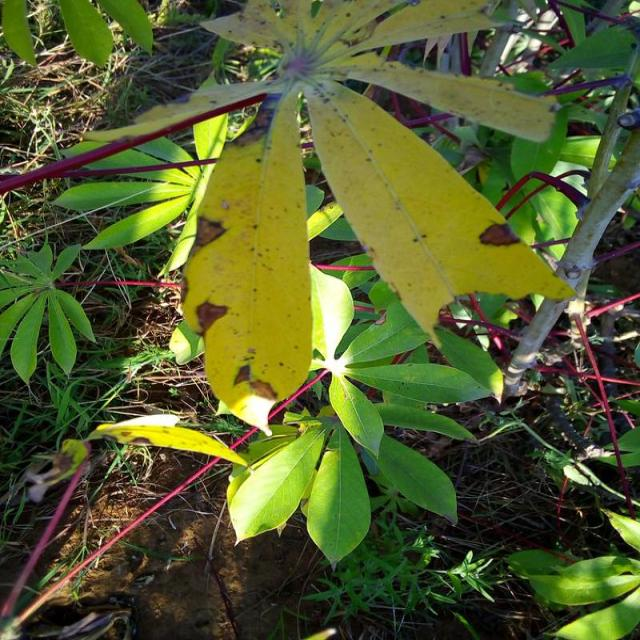cassava leaf: (304, 77, 577, 351), (179, 79, 314, 434)
